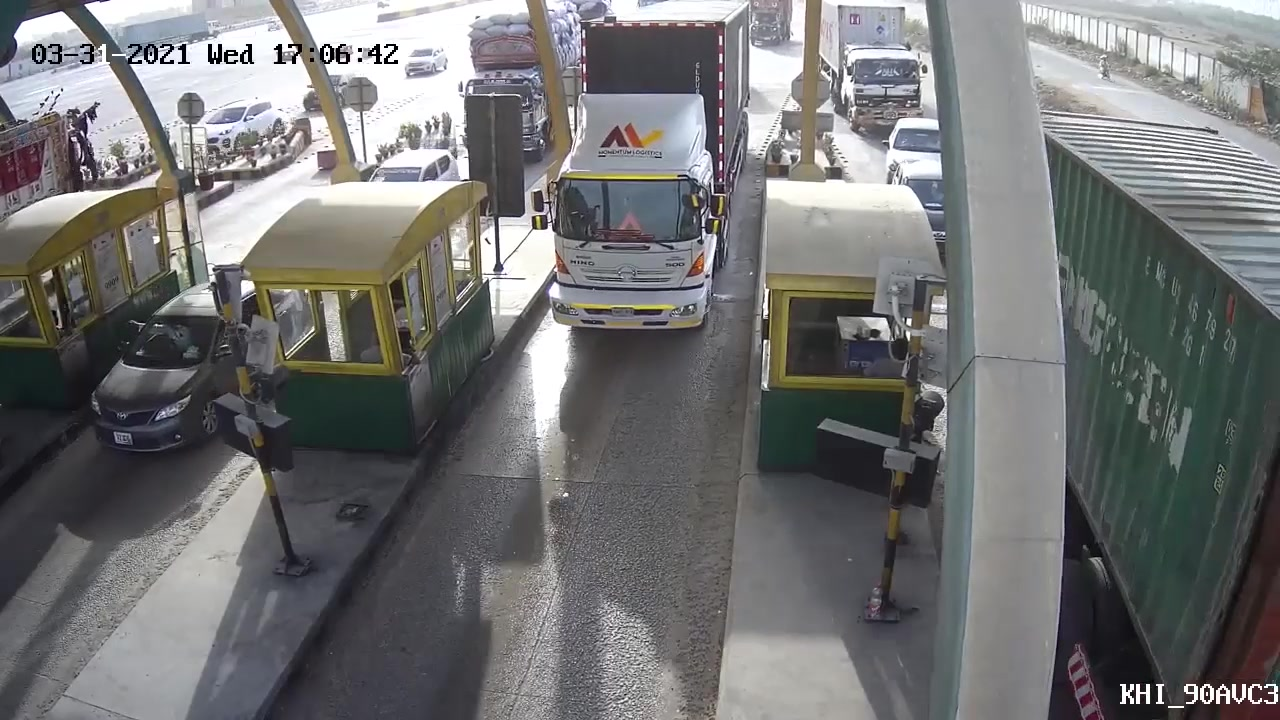F6: (534, 5, 759, 344)
